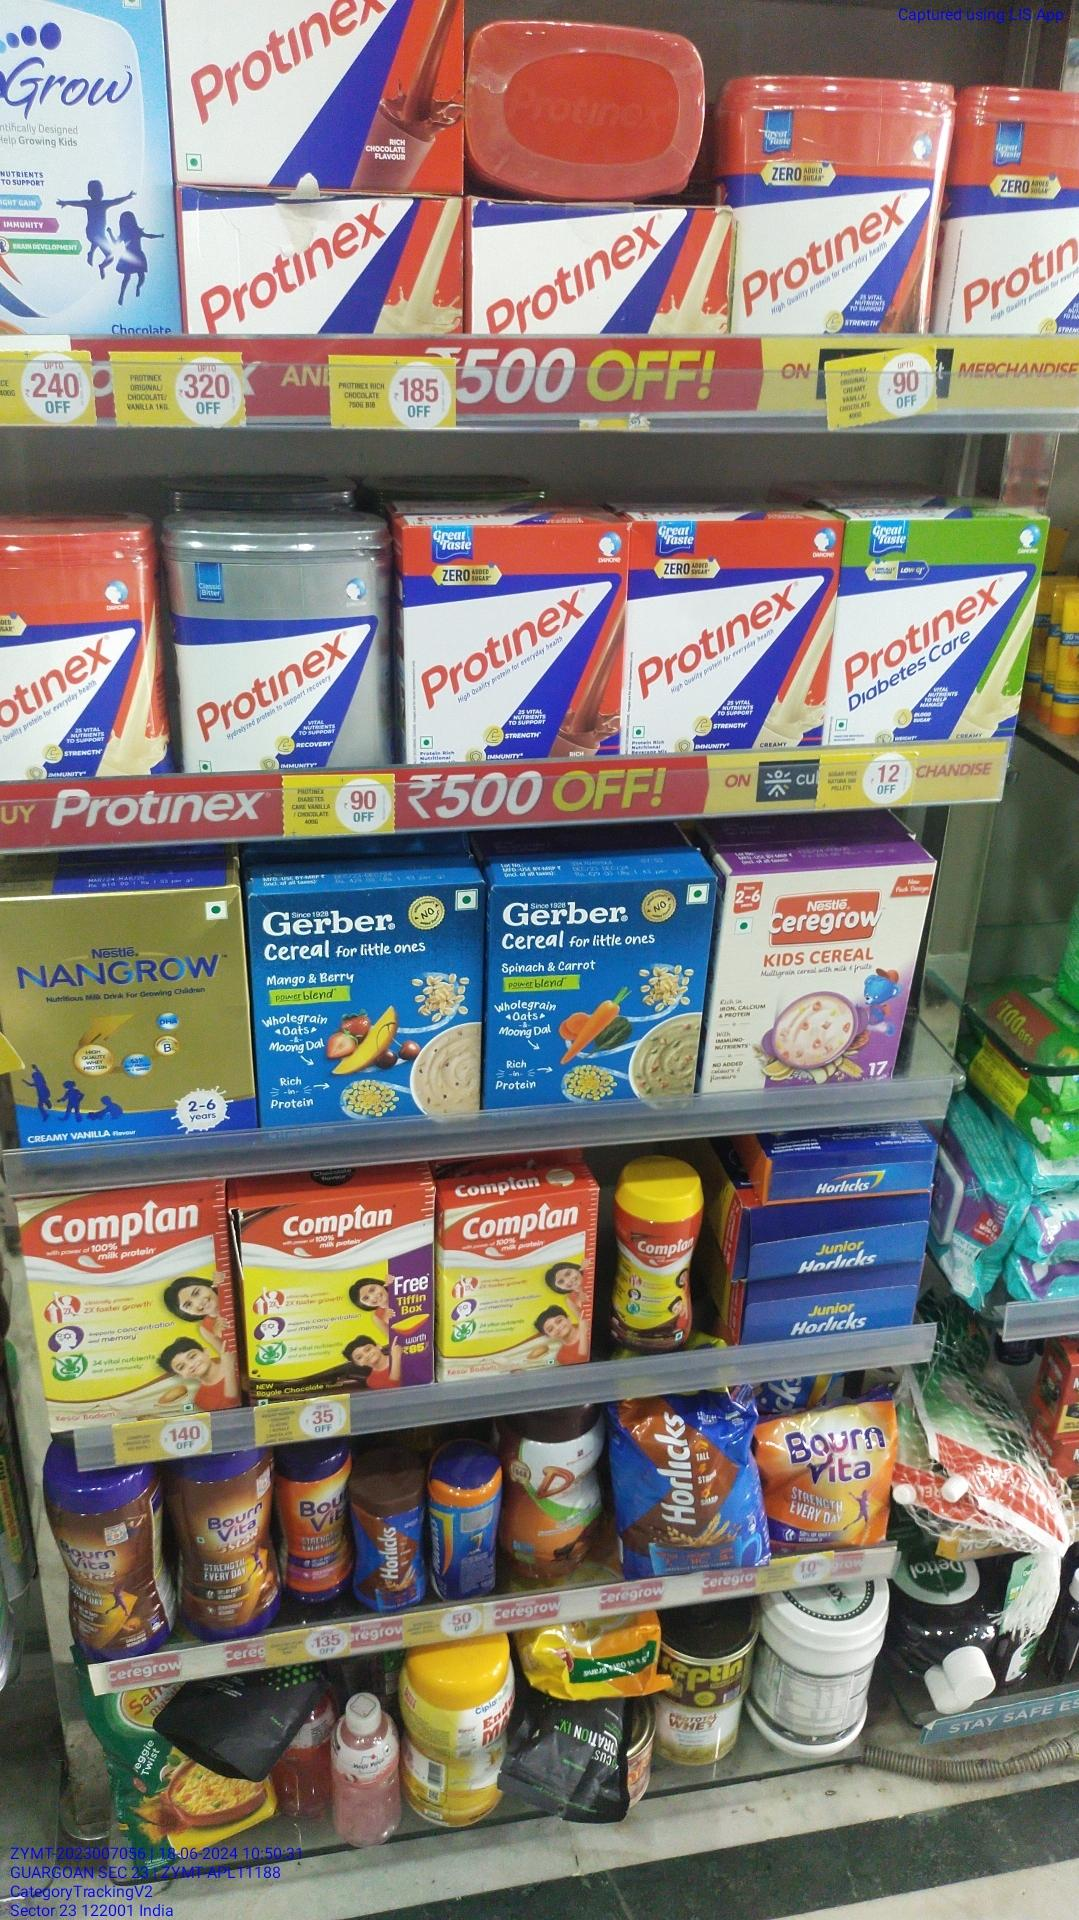BOURN_VITA_200_G_JAR: (280, 1445, 351, 1605)
BOURN_VITA_500_G_POUCH: (769, 1385, 896, 1559)
BOURN_VITA_FIVE_STAR_MAGIC_500_G_JAR: (44, 1456, 156, 1662), (170, 1456, 274, 1639)
COMPLAN_CHOCOLATE_200_GMS_JAR: (605, 1160, 707, 1357)
COMPLAN_CHOCOLATE_500_GMS_PACK: (248, 1180, 443, 1406)
COMPLAN_KESAR_BADAM_200_GMS_PACK: (446, 1192, 595, 1386)
COMPLAN_KESAR_BADAM_500_GMS_PACK: (25, 1187, 241, 1429)
HORLICK_CHOCOLATE_200_G_JAR: (359, 1458, 426, 1618)
HORLICK_CHOCOLATE_750_G_POUCH: (609, 1389, 765, 1580)
PROTINEX_ORIGINAL_400_G_JAR: (162, 525, 393, 782)
